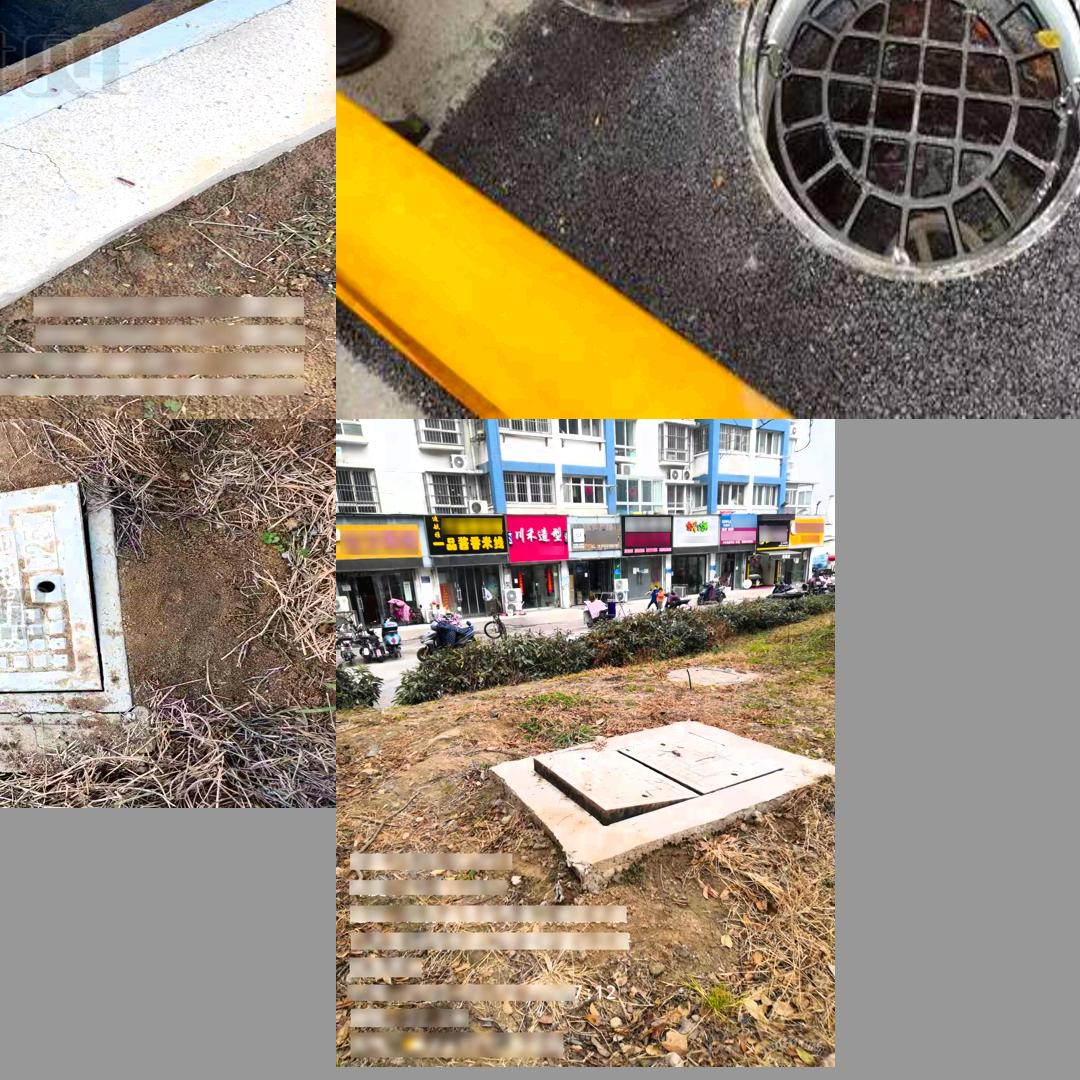uncovered: (430, 0, 1080, 330), (0, 0, 332, 384), (0, 474, 158, 709), (534, 725, 785, 826)
